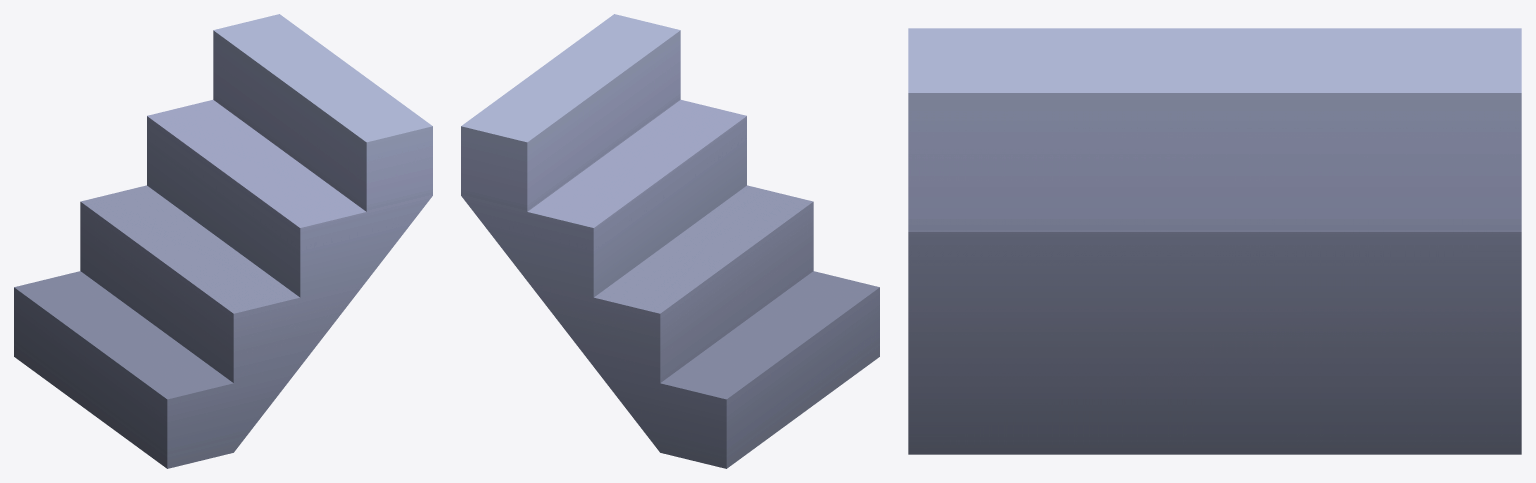
The model's file is stairs-diagonal.glb.
3 renders of one model, left to right at view 1: azimuth 30°, elevation 25°; view 2: azimuth 150°, elevation 25°; view 3: azimuth 270°, elevation 25°, orthographic. The views are drawn at different scales.
Parts seen in each view (by area): view 1: stairs-diagonal; view 2: stairs-diagonal; view 3: stairs-diagonal.
Boxes of the visible parts, x1=… form: stairs-diagonal: x1=14, y1=14, x2=432, y2=468; stairs-diagonal: x1=461, y1=14, x2=879, y2=468; stairs-diagonal: x1=908, y1=28, x2=1521, y2=454.
Size of the model in its own units: 1 by 1 by 1.
Materials: 1 (1 with a texture image).
